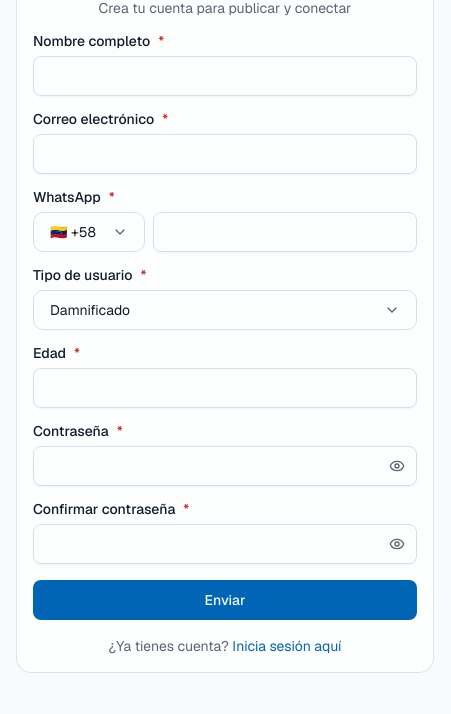
Test case: RegisterPage › rejects an empty WhatsApp number as required, not invalid
This screenshot has width=451, height=714.
(page scrolled)
Click the button "Enviar" at point(225, 600), box [33,580,417,620]
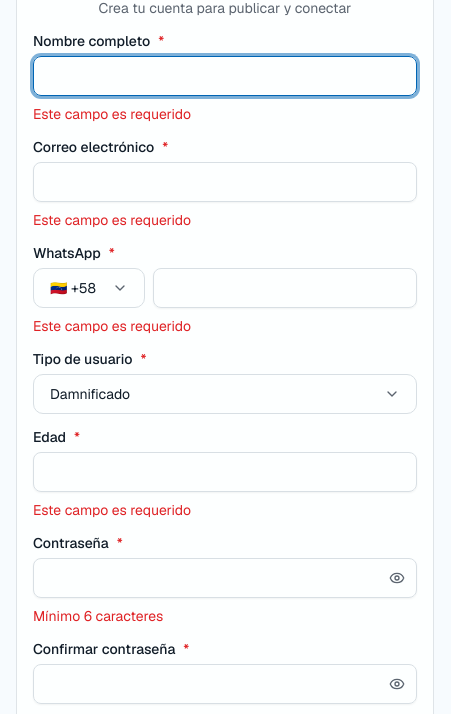
Expected: the message "Este campo es requerido" below "WhatsApp" is shown, [33,317,191,335]
